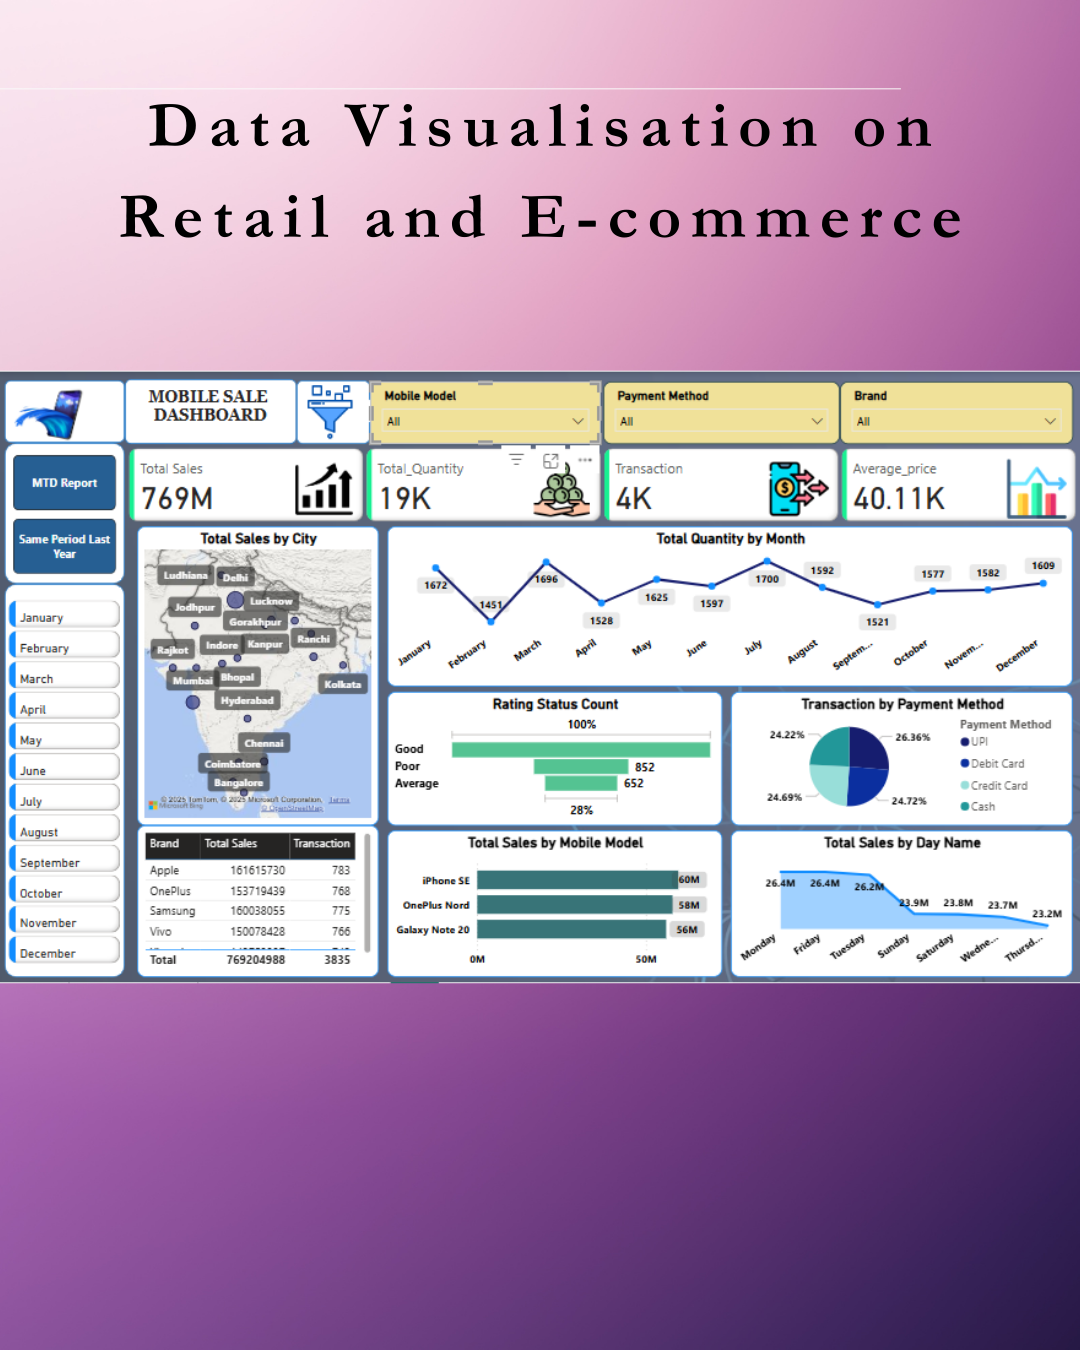

The page's visual inventory and layout, read from the dashboard file:
{"tool":"powerbi","page":{"name":"Dashboard","canvas":[1280,720],"ordinal":0},"visuals":[{"type":"shape","box":[10.1,10.1,141.7,73.7],"z":0},{"type":"image","box":[10.1,0,111.3,98.3],"z":1000},{"type":"shape","box":[10.1,83.9,141.7,166.3],"z":2000},{"type":"shape","box":[10.1,250.1,141.7,464.1],"z":3000},{"type":"advancedSlicerVisual","fields":{"Values":["Custom_Calender.Date.Variation.Date Hierarchy.Month"]},"box":[10.1,264.6,141.7,449.6],"z":4000},{"type":"cardVisual","fields":{"Data":["Sales_Data.Total Sales","Sales_Data.Total_Quantity","Sales_Data.Transaction","Sales_Data.Average_price"]},"box":[151.8,85.3,1127.7,96.9],"z":5000},{"type":"slicer","fields":{"Values":["Sales_Data.Mobile Model"]},"box":[441,11.6,271.8,73.7],"z":6000},{"type":"slicer","fields":{"Values":["Sales_Data.Payment Method"]},"box":[715.7,11.6,279,73.7],"z":7000},{"type":"slicer","fields":{"Values":["Sales_Data.Brand"]},"box":[994.7,11.6,274.7,73.7],"z":8000},{"type":"shape","box":[354.2,10.1,86.7,75.2],"z":9000},{"type":"image","box":[354.2,10.1,79.5,75.2],"z":10000},{"type":"shape","box":[151.8,8.7,202.4,76.6],"z":11000},{"type":"textbox","box":[166.3,14.5,172,65.1],"z":12000},{"type":"shape","box":[420.7,27.5,30.4,37.6],"z":13000},{"type":"map","fields":{"Category":["Sales_Data.City"],"Size":["Sales_Data.Total Sales"]},"box":[166.3,182.2,284.8,352.8],"z":14000},{"type":"lineChart","title":"Total Quantity by Month","fields":{"Y":["Sales_Data.Total_Quantity"],"Category":["Custom_Calender.Date.Variation.Date Hierarchy.Month"]},"box":[461.2,182.2,808.2,189.4],"z":15000},{"type":"funnel","title":"Rating Status Count","fields":{"Y":["CountNonNull(Sales_Data.Customer Ratings)"],"Category":["Sales_Data.Rating Status"]},"box":[461.2,377.3,394.7,157.6],"z":16000},{"type":"pieChart","fields":{"Category":["Sales_Data.Payment Method"],"Y":["Sales_Data.Transaction"]},"box":[866,377.3,403.4,157.6],"z":17000},{"type":"clusteredBarChart","fields":{"Y":["Sales_Data.Total Sales"],"Category":["Sales_Data.Mobile Model"]},"box":[461.2,540.7,394.7,173.5],"z":18000},{"type":"areaChart","fields":{"Y":["Sales_Data.Total Sales"],"Category":["Custom_Calender.Day Name"]},"box":[866,540.7,403.4,173.5],"z":19000},{"type":"tableEx","fields":{"Values":["Sales_Data.Brand","Sales_Data.Total Sales","Sales_Data.Transaction"]},"box":[166.3,534.9,284.8,179.3],"z":20000},{"type":"pageNavigator","box":[20.2,98.3,121.4,140.2],"z":21000}]}

Visuals, with their boxes on the page's 1280x720 design canvas (x1, y1, x2, y2). These are canvas units, not pixel positions in the 1080x1350 screenshot, which may show the page scaled, cropped or inside an application window:
shape: [10,10,152,84]
image: [10,0,121,98]
shape: [10,84,152,250]
shape: [10,250,152,714]
advancedSlicerVisual - Custom_Calender.Date.Variation.Date Hierarchy.Month: [10,265,152,714]
cardVisual - Sales_Data.Total Sales x Sales_Data.Total_Quantity: [152,85,1280,182]
slicer - Sales_Data.Mobile Model: [441,12,713,85]
slicer - Sales_Data.Payment Method: [716,12,995,85]
slicer - Sales_Data.Brand: [995,12,1269,85]
shape: [354,10,441,85]
image: [354,10,434,85]
shape: [152,9,354,85]
textbox: [166,14,338,80]
shape: [421,28,451,65]
map - Sales_Data.City x Sales_Data.Total Sales: [166,182,451,535]
"Total Quantity by Month" lineChart: [461,182,1269,372]
"Rating Status Count" funnel: [461,377,856,535]
pieChart - Sales_Data.Payment Method x Sales_Data.Transaction: [866,377,1269,535]
clusteredBarChart - Sales_Data.Total Sales x Sales_Data.Mobile Model: [461,541,856,714]
areaChart - Sales_Data.Total Sales x Custom_Calender.Day Name: [866,541,1269,714]
tableEx - Sales_Data.Brand x Sales_Data.Total Sales: [166,535,451,714]
pageNavigator: [20,98,142,238]
